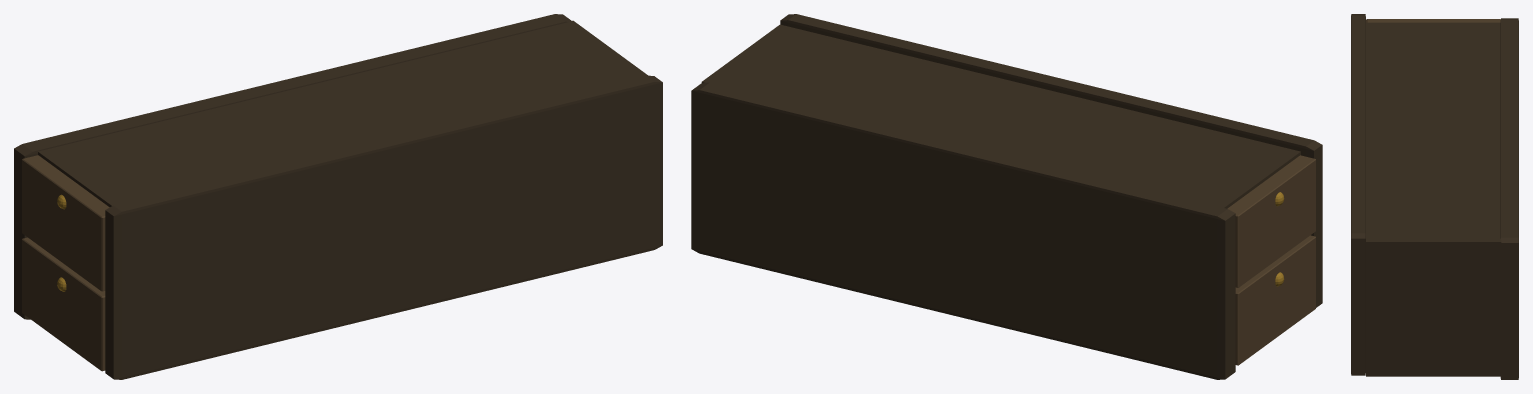
File: drawer_R.fbx
The picture shows the model from 3 angles, left to right: view 1: azimuth 30°, elevation 25°; view 2: azimuth 150°, elevation 25°; view 3: azimuth 270°, elevation 25°; orthographic projection. The views are drawn at different scales.
Parts seen in each view (by area): view 1: Cube.008; view 2: Cube.008; view 3: Cube.008.
Boxes of the visible parts, box(x1,y1,x2,y2) form: Cube.008: box(14, 14, 662, 379); Cube.008: box(691, 14, 1322, 379); Cube.008: box(1351, 14, 1518, 379).
Bounding box in the file's own units: 201 × 59.74 × 62.52.
